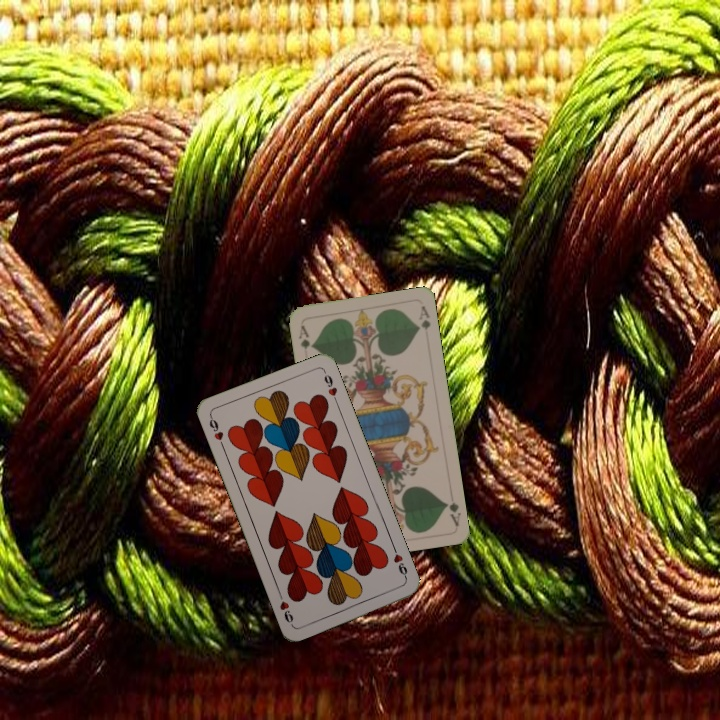GA: (441, 498, 463, 528), (294, 321, 315, 352)
H9: (205, 412, 227, 451), (389, 543, 410, 582)
